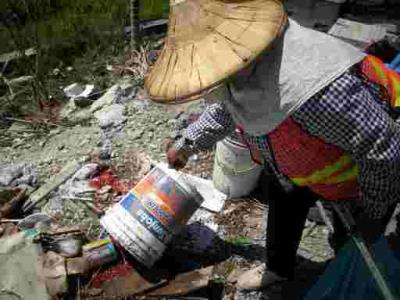bucket: (98, 160, 208, 271), (210, 138, 262, 198)
